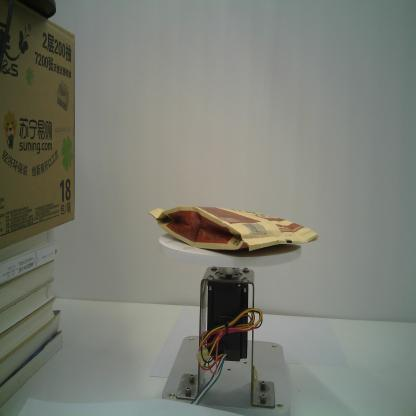Dried Food: (148, 200, 321, 255)
